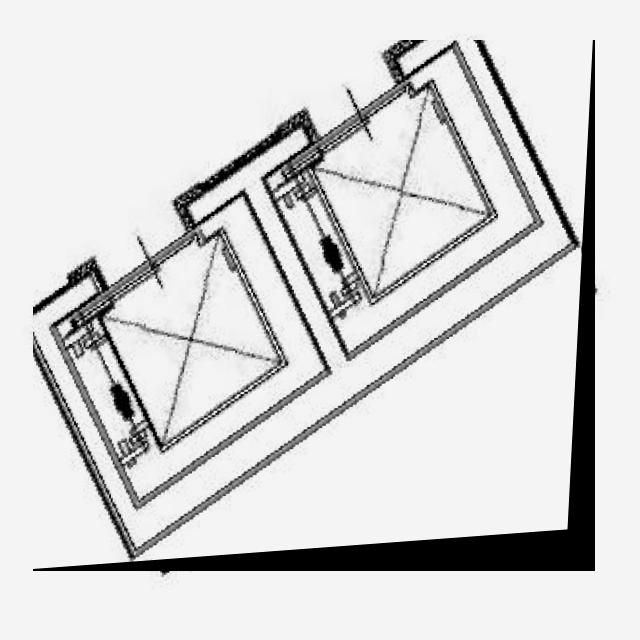lift: (33, 40, 596, 571)
